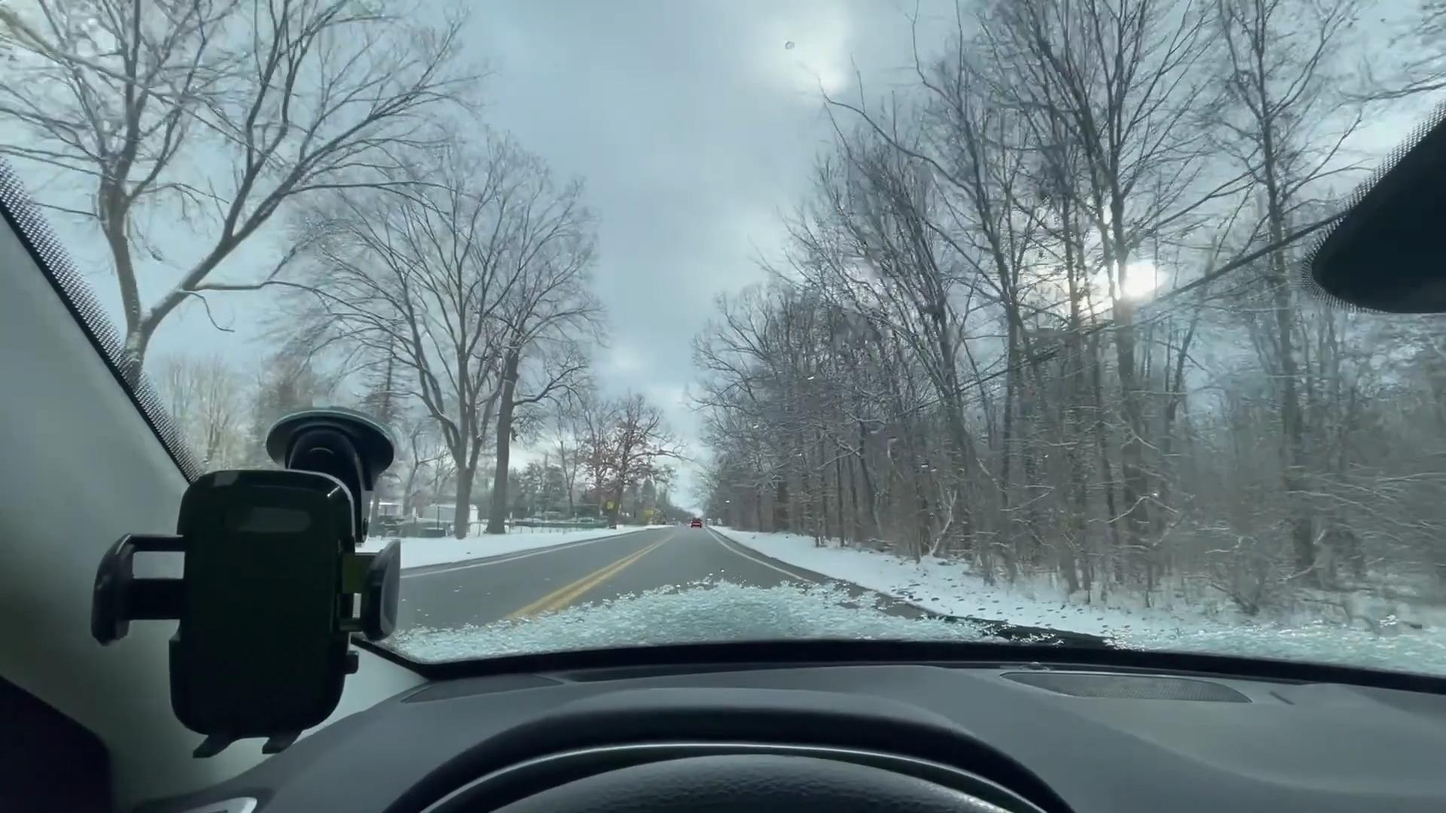Snow: (710, 527, 1445, 649), (396, 522, 654, 570)
dry: (389, 523, 923, 629)
